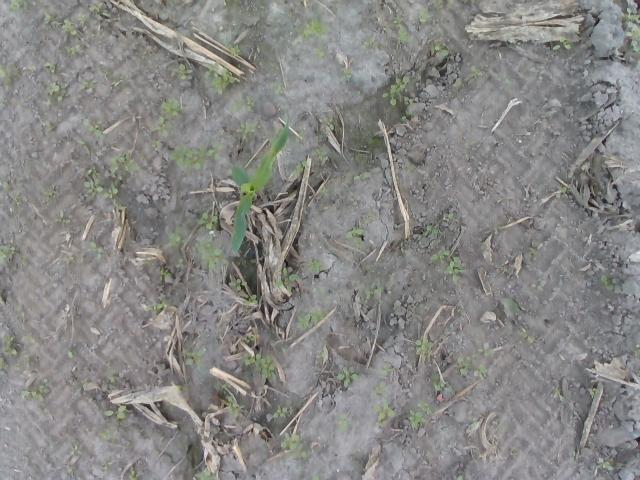Maize: (230, 112, 292, 257)
Weeds: (169, 140, 222, 172), (196, 235, 228, 269), (206, 61, 236, 96), (382, 75, 414, 106), (242, 352, 278, 379), (294, 17, 332, 40), (108, 152, 138, 181), (621, 8, 640, 52), (82, 164, 104, 196), (280, 432, 307, 458), (408, 403, 432, 430), (274, 268, 298, 294), (42, 82, 66, 106), (297, 310, 329, 328), (444, 256, 466, 282), (103, 182, 125, 208), (21, 379, 48, 400), (374, 404, 398, 427), (222, 394, 244, 419), (182, 347, 206, 369), (159, 96, 180, 120), (498, 298, 523, 318), (0, 62, 20, 87), (345, 224, 364, 250), (334, 412, 356, 434), (394, 16, 411, 44), (412, 338, 433, 360), (236, 120, 258, 140), (230, 96, 254, 114), (153, 116, 172, 138), (88, 1, 112, 18), (338, 368, 358, 388), (82, 118, 104, 136), (0, 335, 18, 357), (432, 373, 451, 393), (168, 227, 188, 246), (172, 64, 195, 80), (364, 282, 384, 300), (145, 300, 167, 316), (104, 404, 126, 420), (198, 213, 218, 230), (105, 70, 126, 86), (272, 404, 294, 418), (370, 380, 387, 398), (307, 256, 323, 275), (552, 36, 573, 50), (60, 18, 78, 34), (596, 456, 615, 471), (42, 12, 62, 26), (430, 249, 450, 263), (89, 240, 103, 260), (457, 356, 471, 375), (600, 274, 616, 290), (76, 139, 92, 155), (55, 208, 71, 224), (518, 330, 536, 344), (0, 243, 14, 261), (193, 471, 220, 480), (268, 128, 283, 144), (417, 8, 433, 23), (430, 44, 449, 56), (228, 278, 247, 290), (473, 365, 488, 380), (242, 292, 258, 306), (224, 43, 240, 57), (340, 67, 354, 82), (78, 79, 97, 90), (431, 0, 454, 9), (294, 161, 306, 178), (423, 224, 440, 236), (364, 36, 380, 48), (311, 149, 328, 160), (476, 343, 490, 356), (352, 171, 372, 180), (312, 44, 324, 59), (8, 0, 28, 9), (378, 365, 394, 376), (323, 116, 335, 130), (468, 66, 482, 78), (42, 190, 54, 204), (160, 270, 174, 282), (316, 288, 328, 302), (100, 428, 115, 439), (64, 44, 80, 54), (552, 388, 564, 401), (530, 282, 545, 292), (556, 186, 568, 198), (44, 61, 56, 73), (174, 384, 190, 393), (524, 250, 538, 260), (402, 110, 414, 121), (70, 444, 82, 455), (500, 70, 510, 82), (442, 212, 454, 222), (77, 12, 86, 25), (101, 460, 112, 470), (12, 196, 22, 206), (175, 258, 185, 268), (68, 347, 78, 357), (128, 470, 138, 480), (587, 387, 598, 396), (45, 120, 54, 131), (633, 342, 640, 356), (322, 185, 330, 197), (296, 130, 304, 142), (469, 416, 477, 428), (2, 182, 12, 191), (64, 253, 74, 262), (81, 377, 89, 388), (570, 450, 576, 464), (364, 212, 371, 224), (493, 225, 502, 234), (316, 352, 326, 360), (452, 82, 462, 90), (275, 86, 284, 94), (13, 303, 21, 312), (108, 374, 116, 383), (464, 140, 475, 146), (221, 382, 232, 388), (356, 90, 363, 98), (312, 476, 320, 480), (457, 475, 463, 480)
